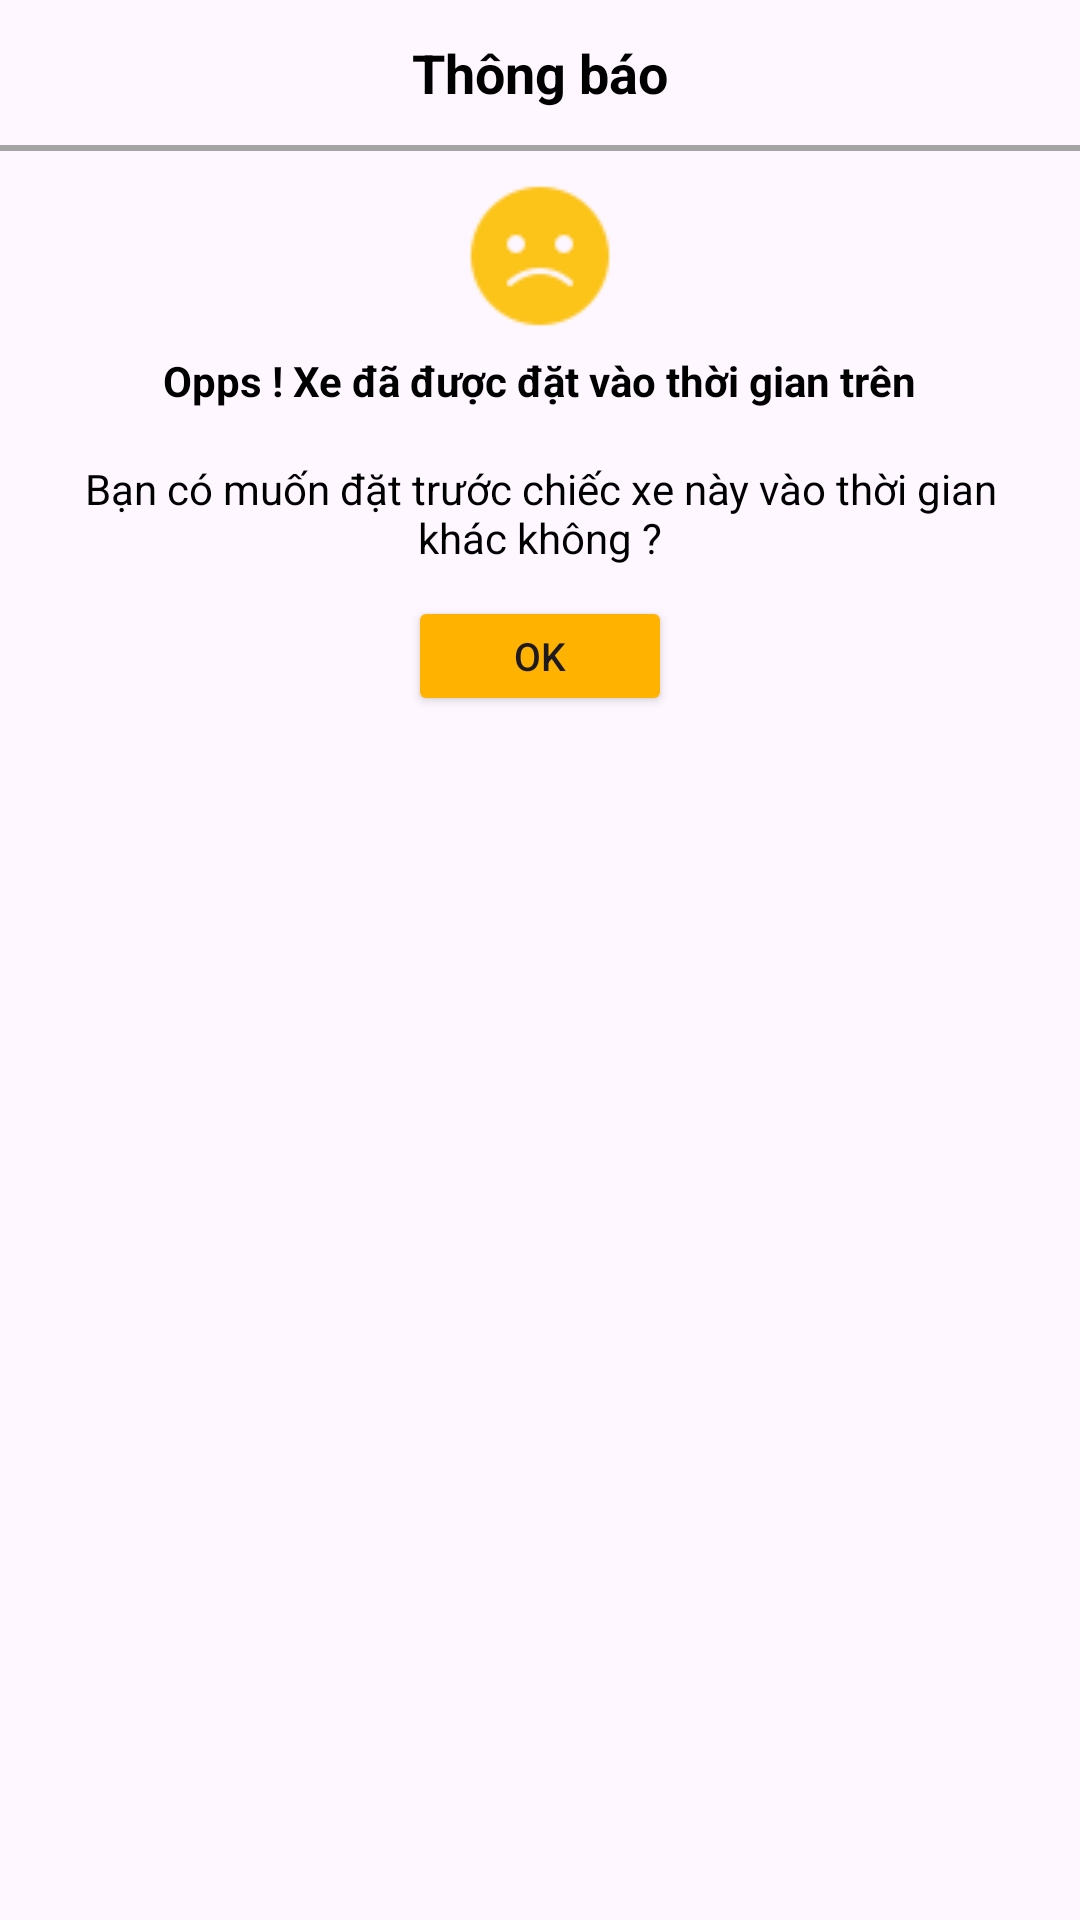

Screen size 1080px×1920px. Icon name, then its center in pixels as [x,y]:
sad: [540,256]
